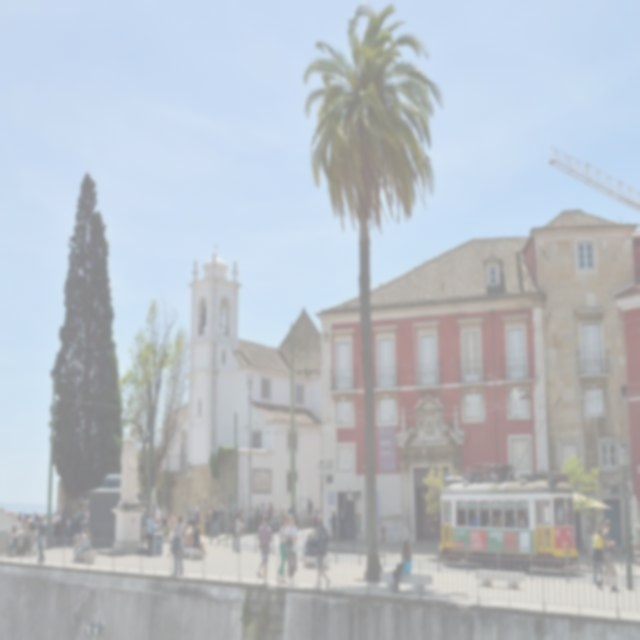pessoa: (458, 505, 566, 537), (3, 506, 47, 566), (593, 514, 620, 592), (310, 511, 330, 592), (254, 512, 273, 586), (188, 500, 226, 534), (391, 538, 414, 594), (282, 514, 298, 588), (172, 514, 186, 578), (278, 512, 290, 583), (70, 523, 92, 561), (591, 526, 605, 584), (248, 500, 275, 530), (624, 522, 640, 570), (227, 502, 244, 536), (145, 511, 157, 558), (67, 500, 90, 524), (278, 504, 301, 528), (191, 523, 206, 557), (235, 511, 245, 554), (337, 504, 349, 538), (302, 531, 314, 558), (48, 509, 64, 529), (182, 523, 195, 546), (231, 510, 238, 552), (330, 509, 338, 544), (160, 503, 168, 538), (306, 495, 314, 526), (312, 509, 320, 538), (154, 504, 162, 526), (168, 509, 176, 529), (154, 518, 162, 532), (168, 526, 174, 540)
